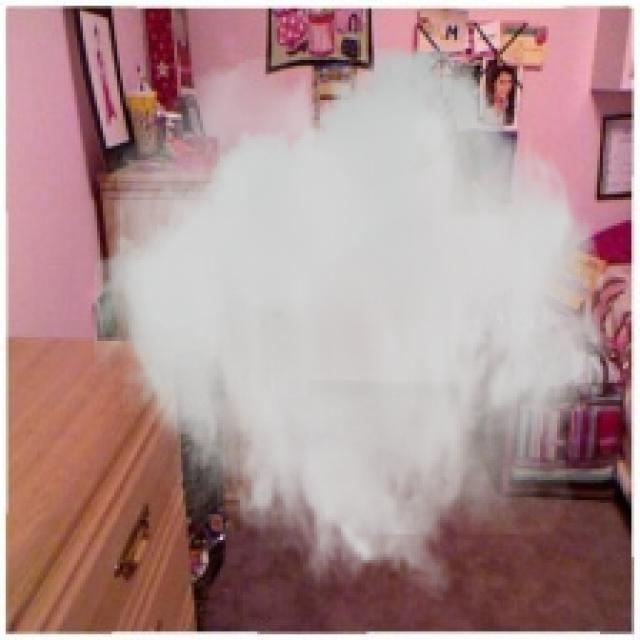Smoke: (94, 46, 612, 603)
